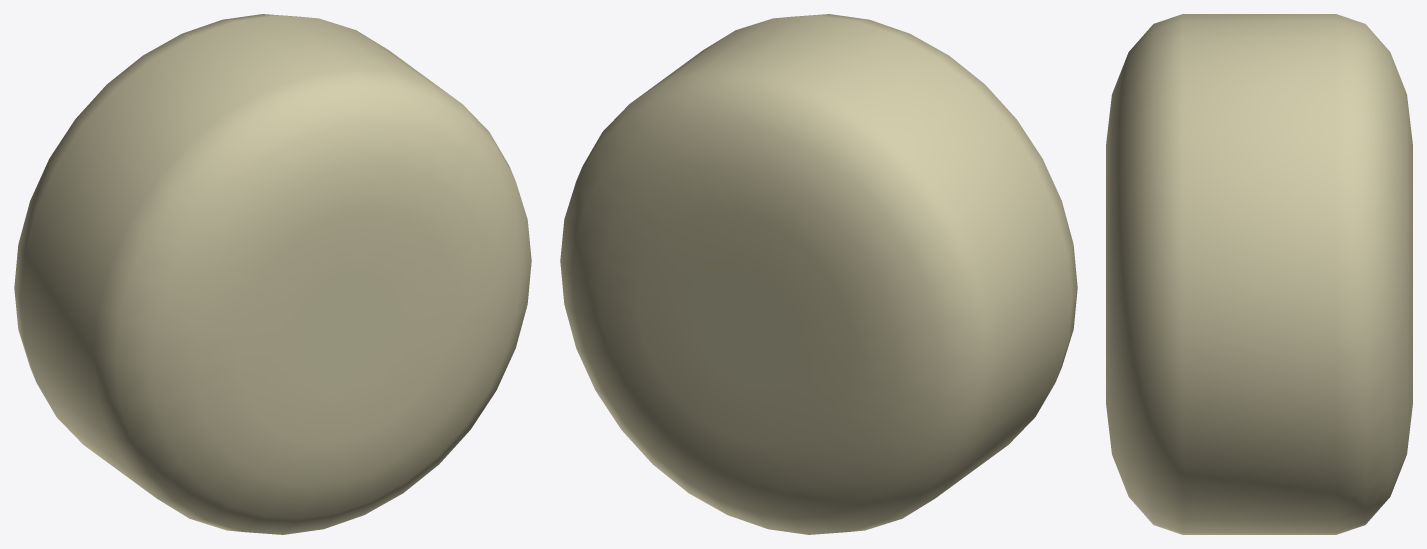
Rendered from 爪底盘.fbx.
The picture shows the model from 3 angles, left to right: view 1: azimuth 30°, elevation 25°; view 2: azimuth 150°, elevation 25°; view 3: azimuth 270°, elevation 25°; orthographic projection. The views are drawn at different scales.
Parts seen in each view (by area): view 1: Cylinder7; view 2: Cylinder7; view 3: Cylinder7.
Boxes of the visible parts, x1,y1,x2,y2 form: Cylinder7: [14, 14, 531, 534]; Cylinder7: [560, 14, 1077, 534]; Cylinder7: [1106, 14, 1412, 534].
Bounding box in the file's own units: 85 × 50 × 85.
